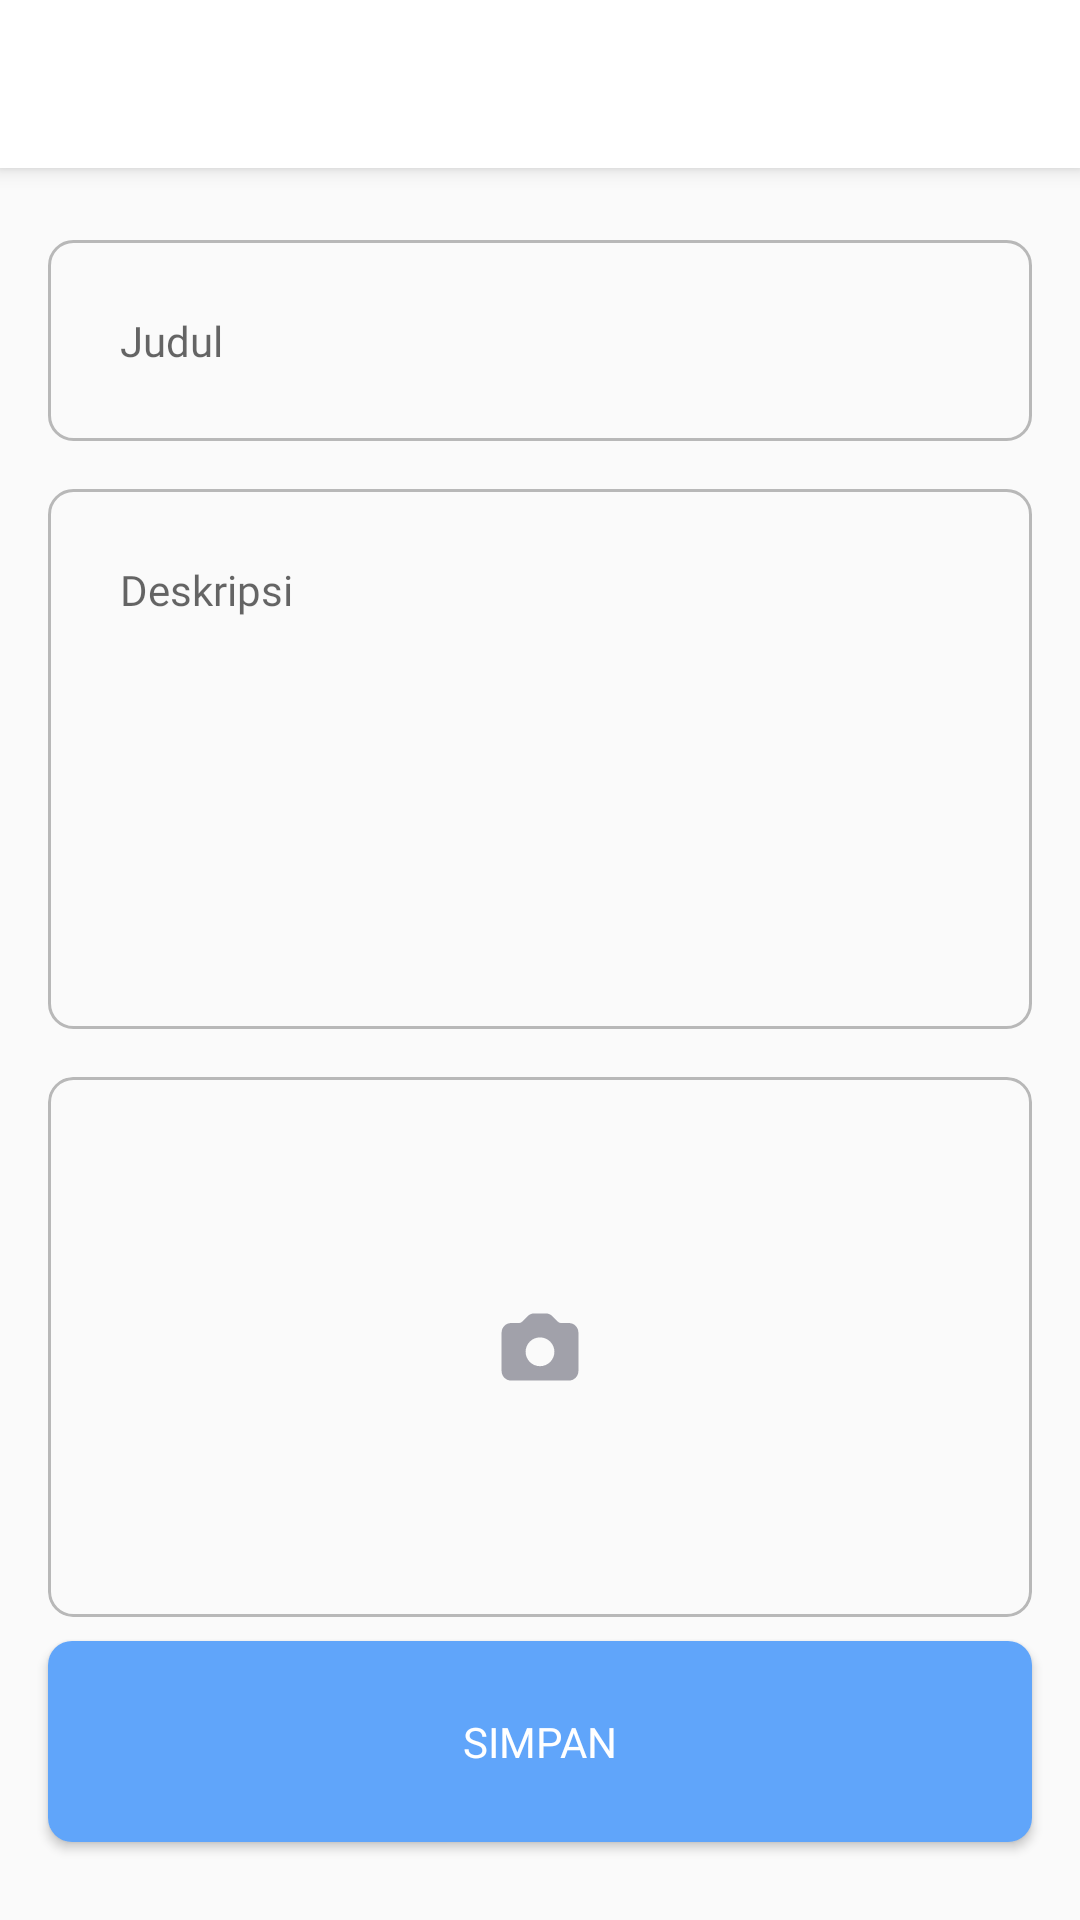

Screen size 1080×1920. Icon name, then its box in pixels as (left=x1, top=y1, right=x2, bottom=y2):
camera: (left=501, top=1313, right=579, bottom=1381)
